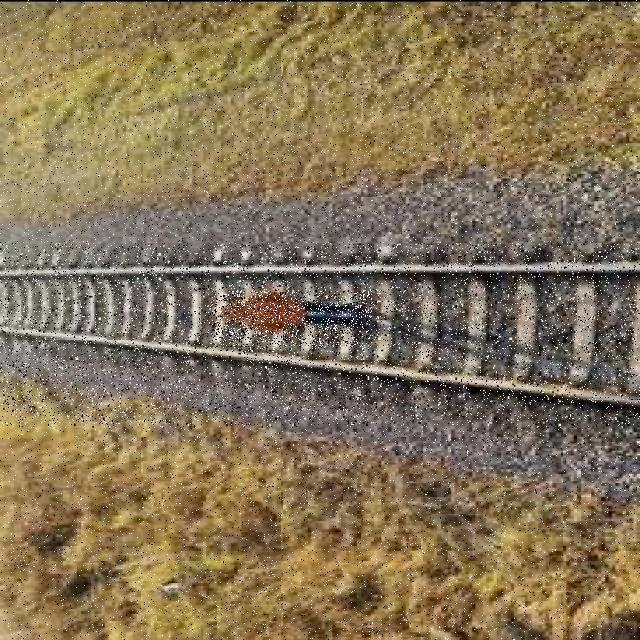danger: (212, 291, 372, 347)
rail: (0, 244, 640, 425)
